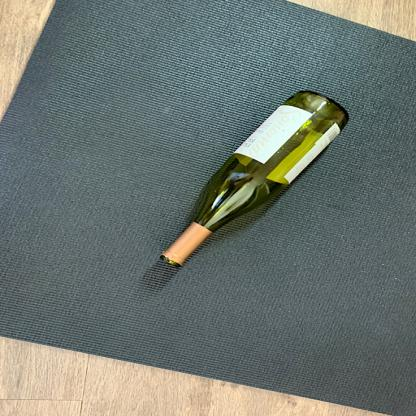trash: (157, 88, 351, 272)
